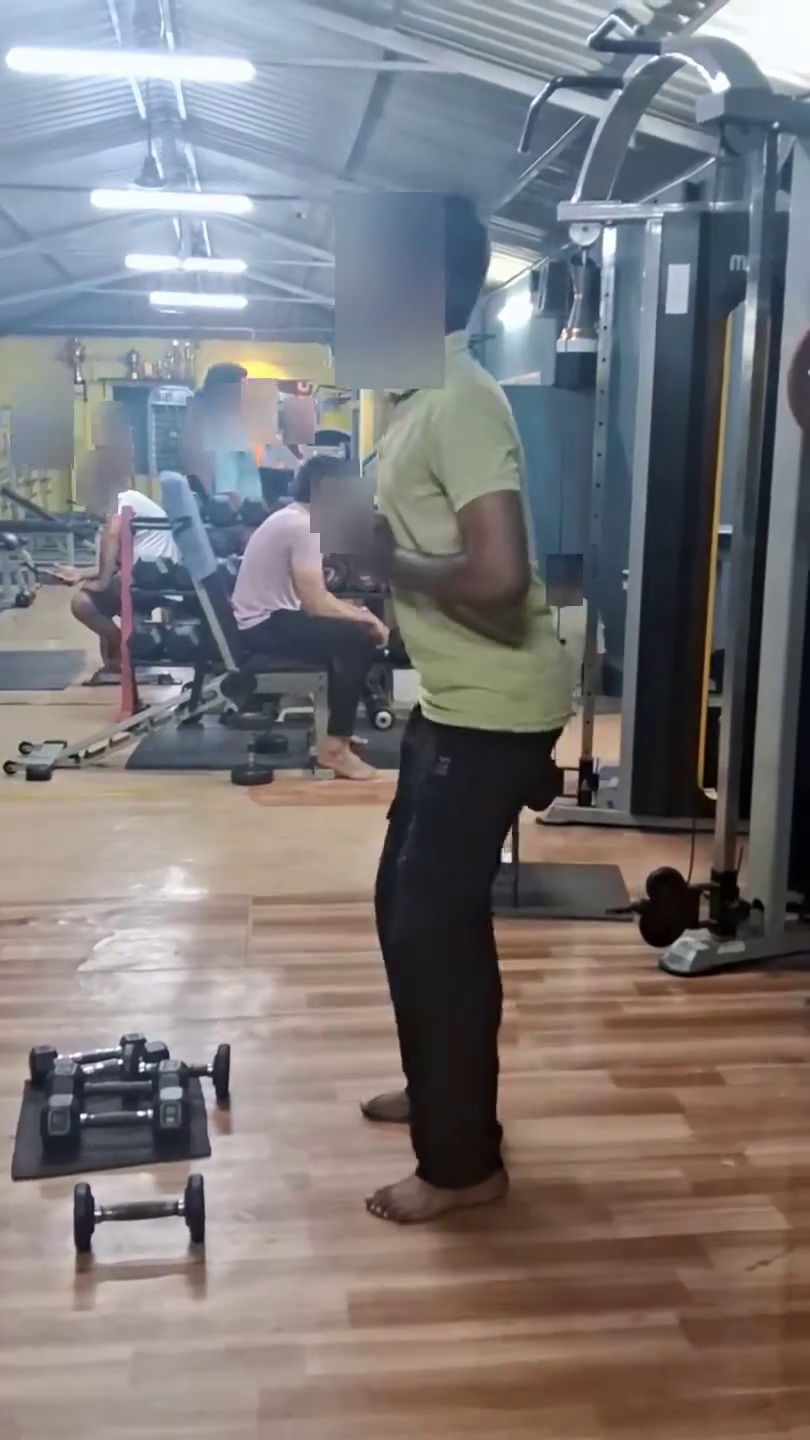squat: (265, 281, 716, 1270)
